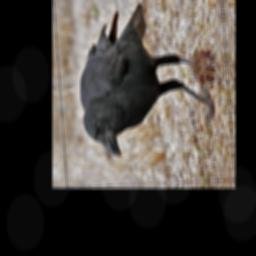Crow: (74, 0, 218, 160)
